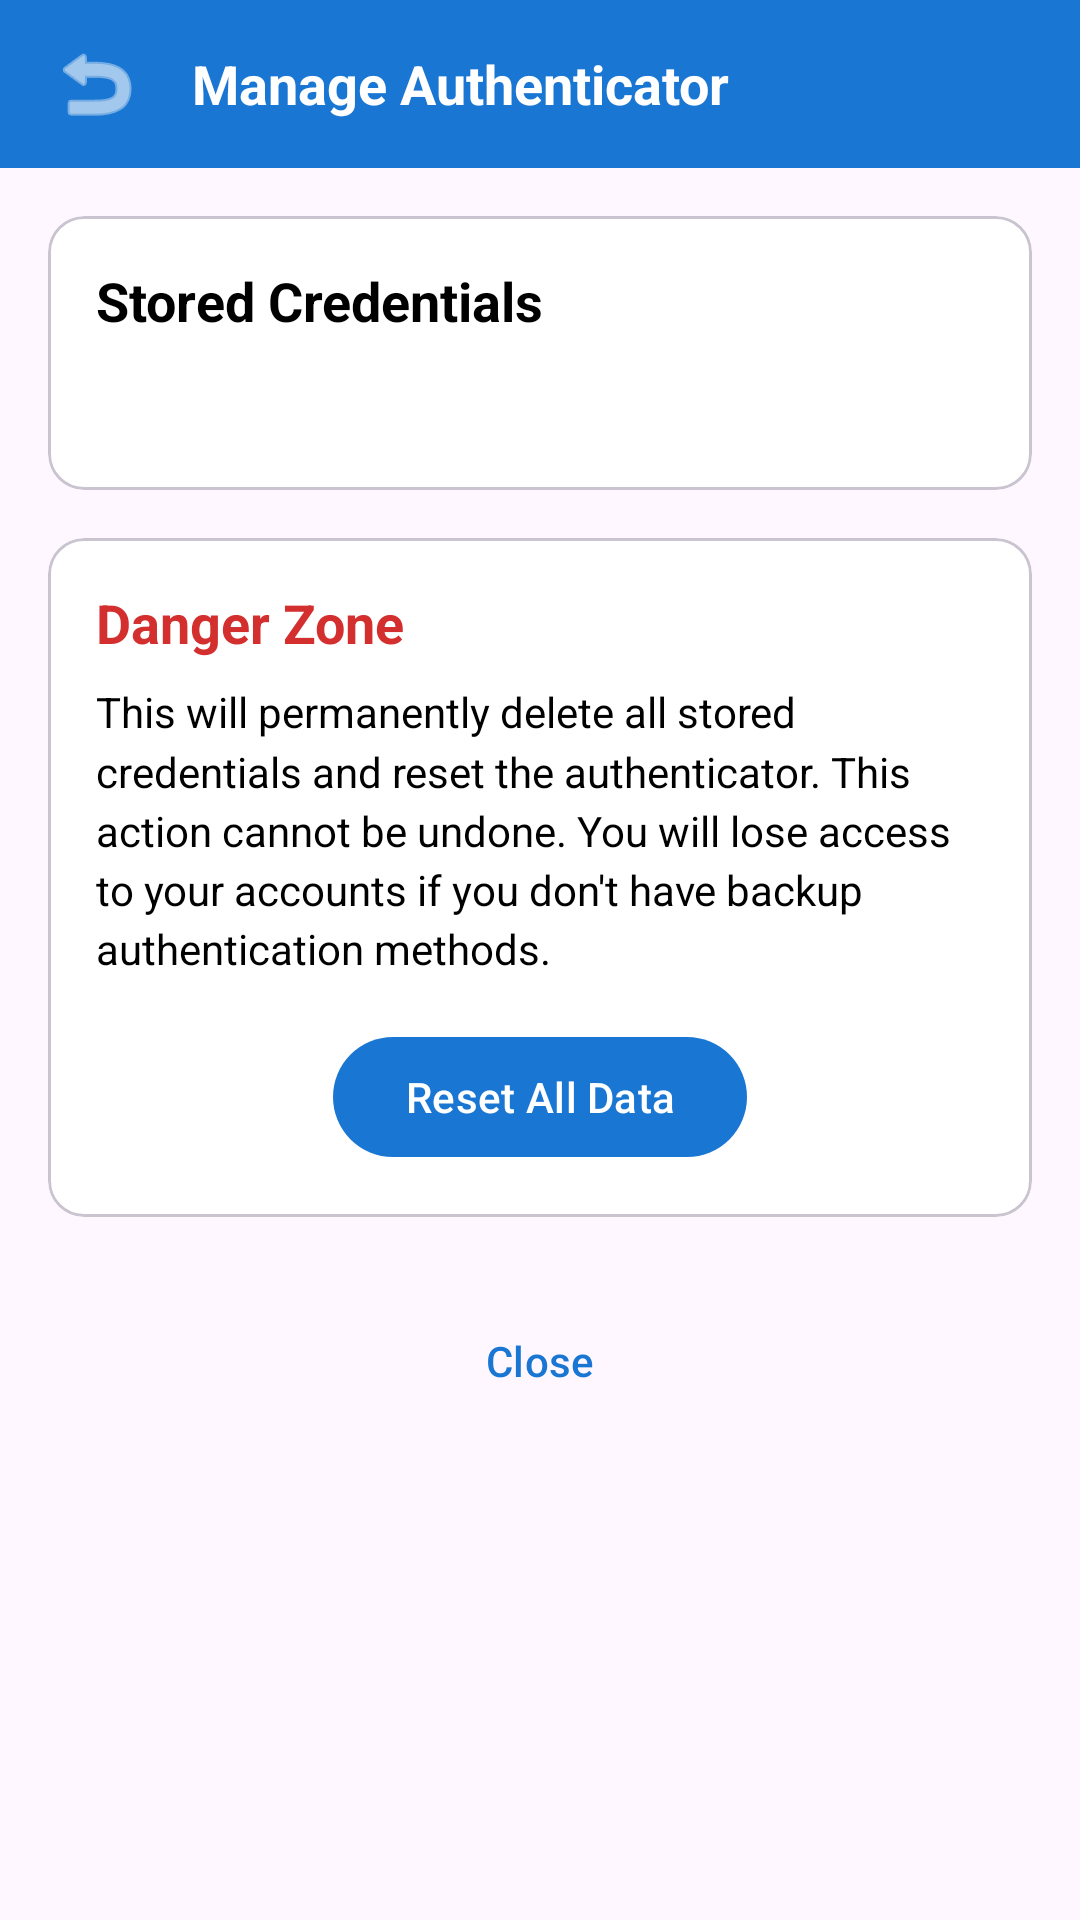

Where icons sit on this 1080px x 1920px app screen, as (x1, y1, x2, y2):
Back: (63, 53, 132, 116)
